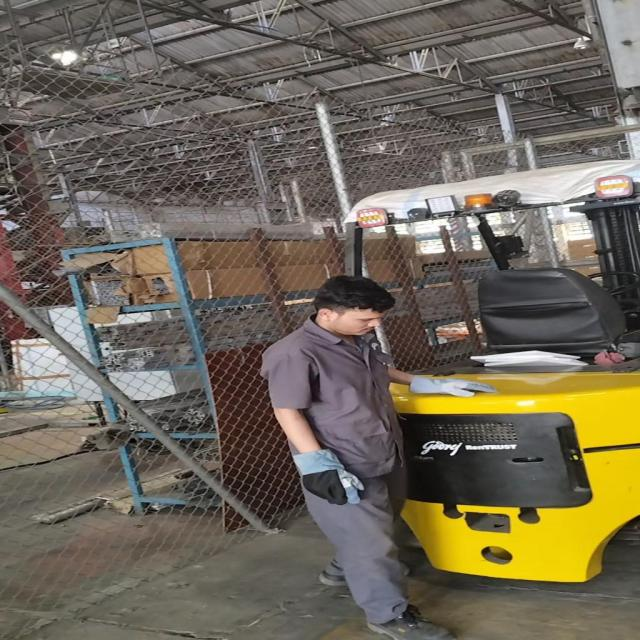Gloves-Detection: (287, 448, 366, 505), (395, 372, 494, 401)
